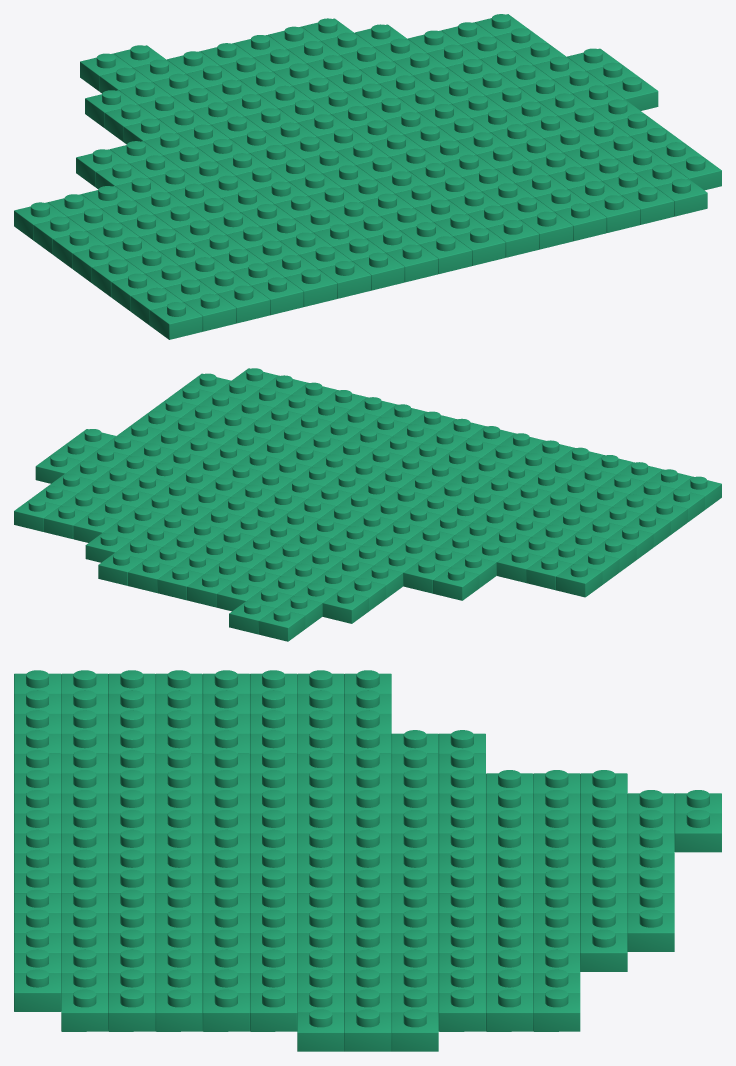
File: WesternUnitedStates.fbx
3 views of the same model, one above another, from view 1: azimuth 30°, elevation 25°; view 2: azimuth 150°, elevation 25°; view 3: azimuth 270°, elevation 25° (orthographic). The views are drawn at different scales.
Visible parts, largest first — view 1: Cube_77; view 2: Cube_77; view 3: Cube_77.
Boxes of the visible parts, <box> form: Cube_77: <box>14,14,721,339</box>; Cube_77: <box>14,368,721,641</box>; Cube_77: <box>14,670,721,1051</box>.
Bounding box in the file's own units: 1800 × 65.03 × 1500.
